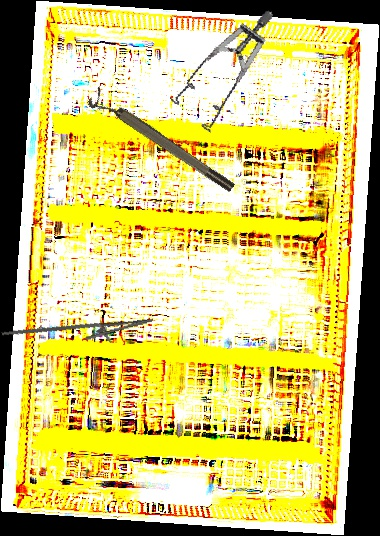Fixation Ring: (86, 85, 237, 201)
Needle Holder: (1, 300, 156, 365)
Speculum: (153, 8, 303, 143)
